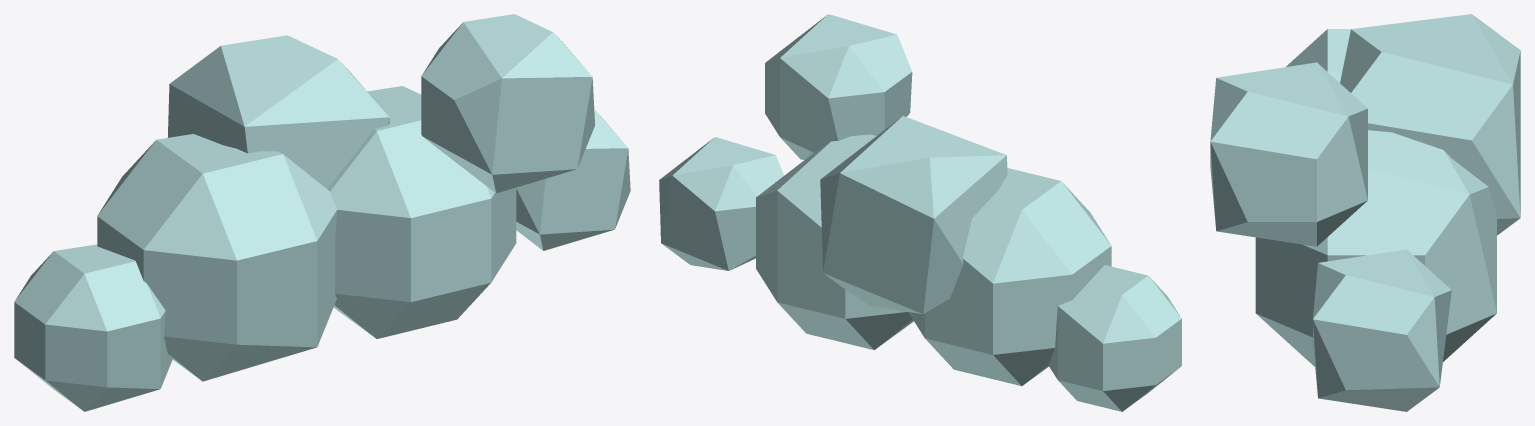
The model's file is cloud-004.glb.
The picture shows the model from 3 angles, left to right: view 1: azimuth 30°, elevation 25°; view 2: azimuth 150°, elevation 25°; view 3: azimuth 270°, elevation 25°; orthographic projection. The views are drawn at different scales.
Parts seen in each view (by area): view 1: cloud 2_27; view 2: cloud 2_27; view 3: cloud 2_27.
Boxes of the visible parts, x1,y1,x2,y2 form: cloud 2_27: [14, 14, 630, 411]; cloud 2_27: [659, 14, 1181, 411]; cloud 2_27: [1210, 14, 1520, 411].
Bounding box in the file's own units: 1.67 × 0.8447 × 0.7278.
